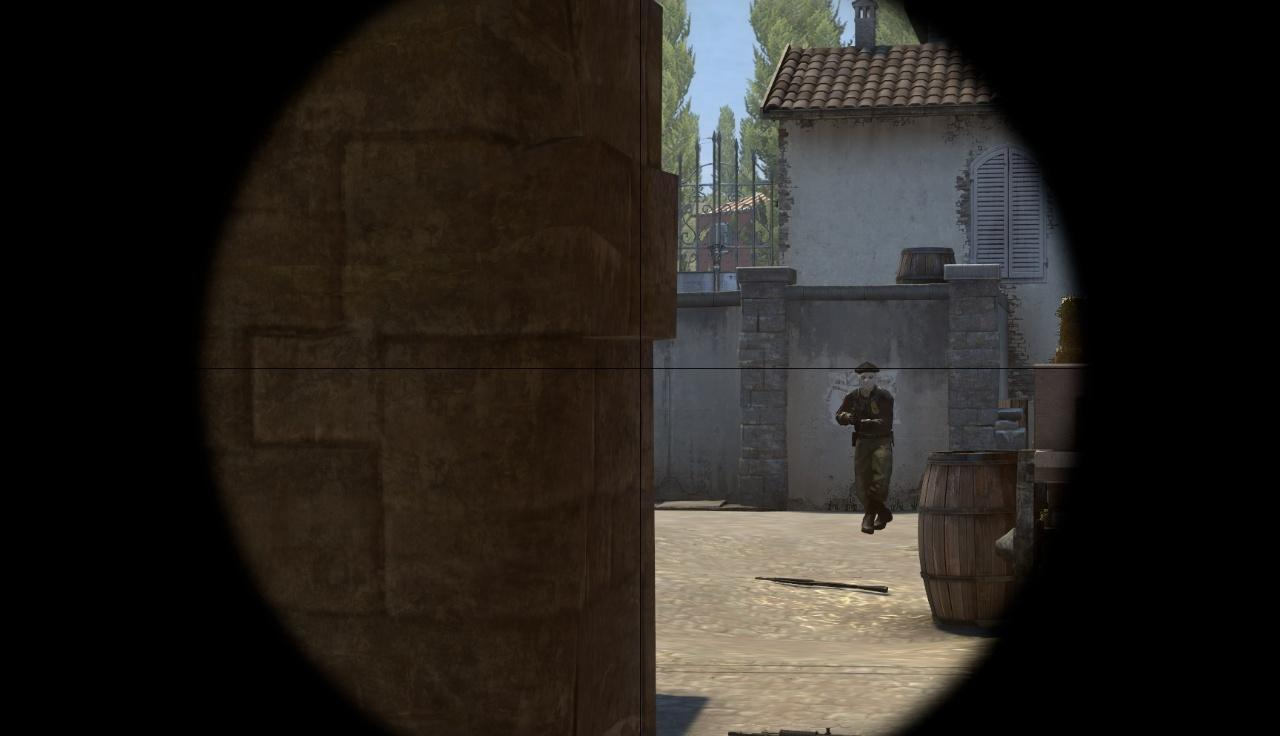tt: (847, 363, 890, 529)
tthead: (857, 364, 875, 390)
